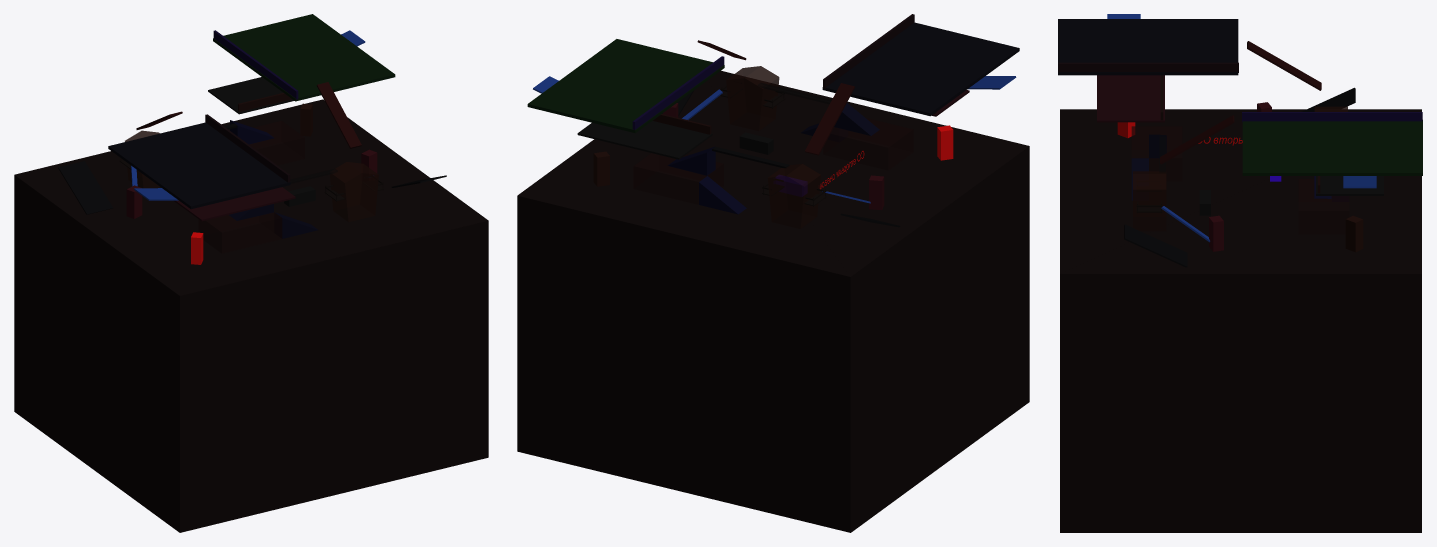
The model's file is map1.obj.
3 views of the same model, side by side, from view 1: azimuth 30°, elevation 25°; view 2: azimuth 150°, elevation 25°; view 3: azimuth 270°, elevation 25° (orthographic). The views are drawn at different scales.
Parts seen in each view (by area): view 1: floor.001, floor.002, Cube.028_Cube.027, Cube.043_Cube.055, Cube.046_Cube.058, Cube.053_Cube.065, Cube.025_Cube.024, Cube.039_Cube.051, Cube.007_Cube.004, Cube.032_Cube.031, Cube.067_Cube.079, Cube.042_Cube.054 (+3 smaller); view 2: floor.001, floor.002, Cube.028_Cube.027, Cube.043_Cube.055, Cube.046_Cube.058, Cube.053_Cube.065, Cube.032_Cube.031, Cube.016_Cube.015, Cube.025_Cube.024, Cube.001_Cube.006, Cube.042_Cube.054, Cube.024_Cube.023 (+3 smaller); view 3: floor.001, floor.002, Cube.043_Cube.055, Cube.028_Cube.027, Cube.039_Cube.051, Cube.025_Cube.024, Cube.053_Cube.065, Cube.029_Cube.028, Cube.042_Cube.054, Cube.046_Cube.058, Cube.010_Cube.009, Cube.032_Cube.031 (+7 smaller).
Boxes of the visible parts, left/top/right/bottom form: floor.001: left=14, top=99, right=488, bottom=532; floor.002: left=14, top=174, right=487, bottom=295; Cube.028_Cube.027: left=108, top=122, right=290, bottom=209; Cube.043_Cube.055: left=213, top=14, right=395, bottom=101; Cube.046_Cube.058: left=198, top=212, right=282, bottom=253; Cube.053_Cube.065: left=330, top=162, right=378, bottom=221; Cube.025_Cube.024: left=249, top=121, right=304, bottom=165; Cube.039_Cube.051: left=174, top=187, right=295, bottom=221; Cube.007_Cube.004: left=58, top=161, right=112, bottom=214; Cube.032_Cube.031: left=208, top=77, right=294, bottom=114; Cube.067_Cube.079: left=316, top=82, right=361, bottom=148; Cube.042_Cube.054: left=213, top=30, right=298, bottom=99; floor.001: left=517, top=80, right=1029, bottom=532; floor.002: left=708, top=71, right=1029, bottom=276; Cube.028_Cube.027: left=822, top=22, right=1019, bottom=116; Cube.043_Cube.055: left=527, top=39, right=724, bottom=133; Cube.046_Cube.058: left=823, top=118, right=913, bottom=170; Cube.053_Cube.065: left=726, top=66, right=779, bottom=130; Cube.032_Cube.031: left=577, top=121, right=712, bottom=159; Cube.016_Cube.015: left=767, top=163, right=820, bottom=228; Cube.025_Cube.024: left=633, top=153, right=723, bottom=204; Cube.001_Cube.006: left=805, top=83, right=854, bottom=155; Cube.042_Cube.054: left=632, top=56, right=724, bottom=129; Cube.024_Cube.023: left=699, top=176, right=746, bottom=214; floor.001: left=1060, top=109, right=1421, bottom=532; floor.002: left=1060, top=109, right=1421, bottom=273; Cube.043_Cube.055: left=1242, top=120, right=1422, bottom=175; Cube.028_Cube.027: left=1058, top=19, right=1238, bottom=75; Cube.039_Cube.051: left=1097, top=75, right=1164, bottom=122; Cube.025_Cube.024: left=1298, top=179, right=1349, bottom=233; Cube.053_Cube.065: left=1133, top=171, right=1166, bottom=231; Cube.029_Cube.028: left=1058, top=62, right=1238, bottom=72; Cube.042_Cube.054: left=1242, top=112, right=1422, bottom=122; Cube.046_Cube.058: left=1131, top=126, right=1182, bottom=180; Cube.010_Cube.009: left=1124, top=224, right=1187, bottom=267; Cube.032_Cube.031: left=1316, top=176, right=1383, bottom=195.
Bounding box in the file's own units: 24.65 × 24.49 × 21.96.
